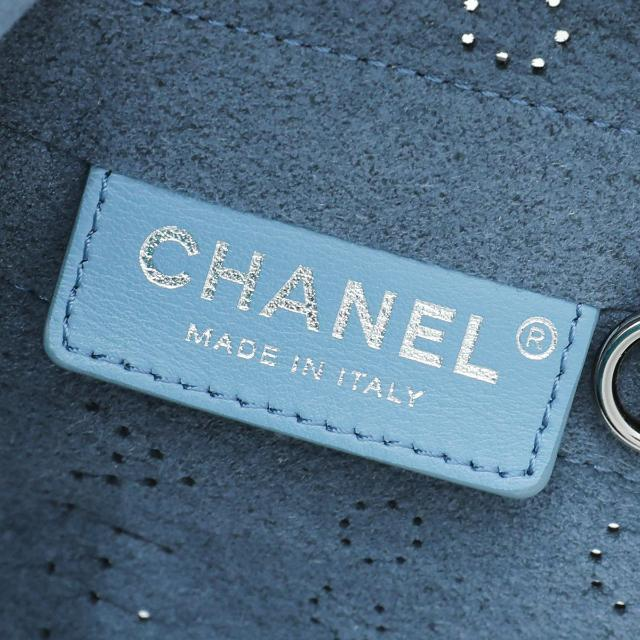Chanel: (103, 195, 546, 406)
